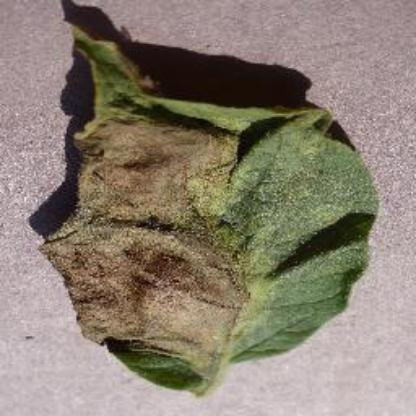Late-Blight: (37, 14, 381, 396)
